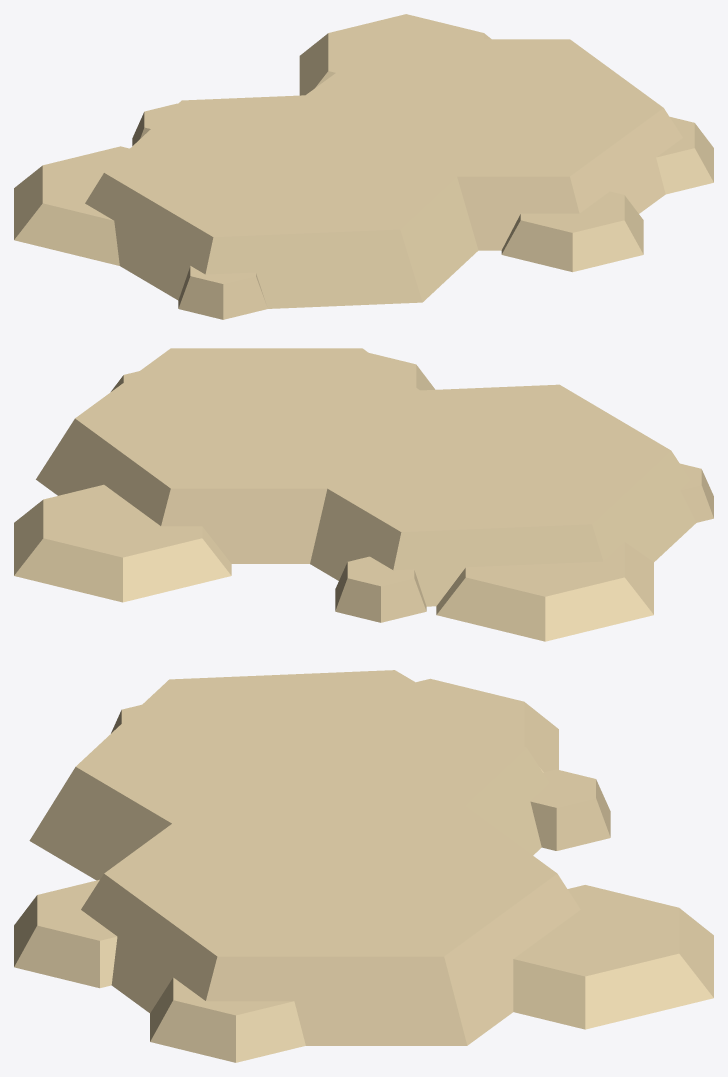
File: rockFlat.fbx
3 renders of one model, top to bottom at view 1: azimuth 30°, elevation 25°; view 2: azimuth 150°, elevation 25°; view 3: azimuth 270°, elevation 25°, orthographic. The views are drawn at different scales.
Parts seen in each view (by area): view 1: rockFlat; view 2: rockFlat; view 3: rockFlat.
Boxes of the visible parts, left/top/right/bottom form: rockFlat: left=14, top=14, right=713, bottom=319; rockFlat: left=14, top=348, right=713, bottom=641; rockFlat: left=14, top=670, right=713, bottom=1062.
Size of the model in its own units: 71.46 by 6.6 by 57.91.
